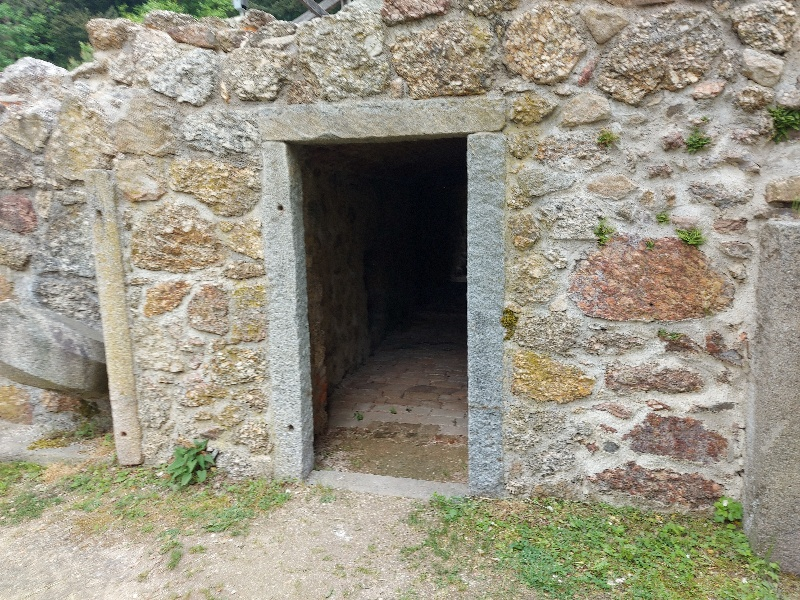door2: (238, 102, 522, 505)
